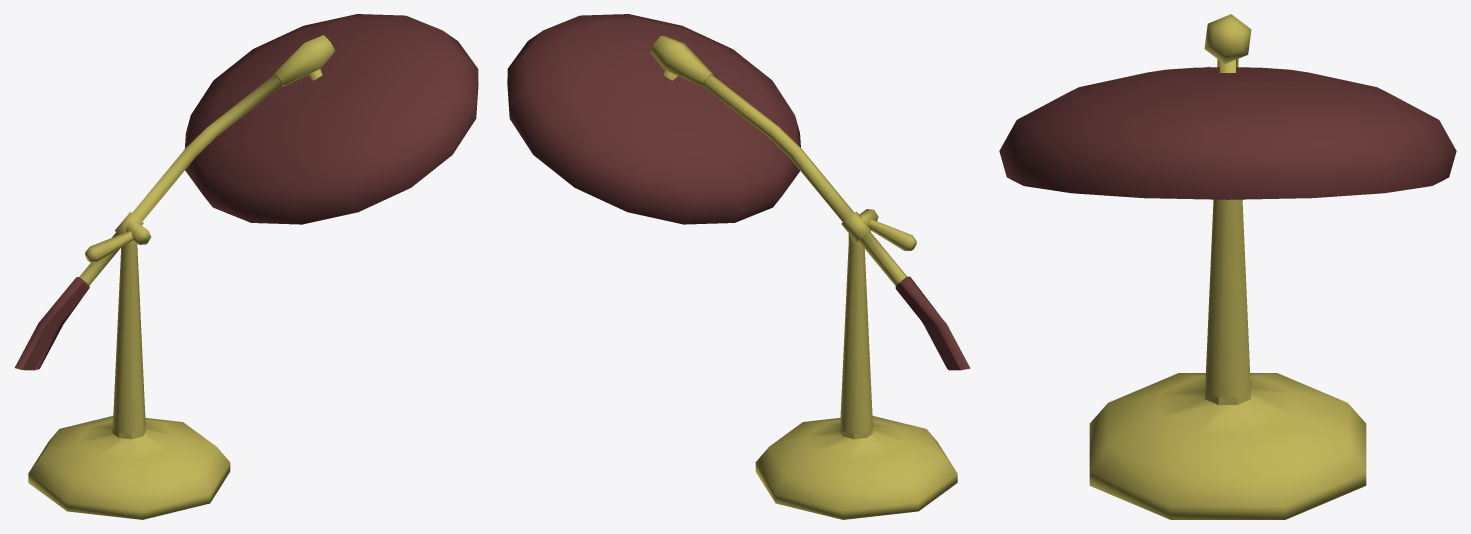
File: lamparaB.fbx
The picture shows the model from 3 angles, left to right: view 1: azimuth 30°, elevation 25°; view 2: azimuth 150°, elevation 25°; view 3: azimuth 270°, elevation 25°; orthographic projection. The views are drawn at different scales.
Visible parts, largest first — view 1: LamparaB; view 2: LamparaB; view 3: LamparaB.
Part boxes in pixels (x1=…): LamparaB: x1=14, y1=14, x2=478, y2=519; LamparaB: x1=507, y1=14, x2=970, y2=519; LamparaB: x1=999, y1=14, x2=1456, y2=519.
Size of the model in its own units: 47.2 by 40.02 by 28.63.
